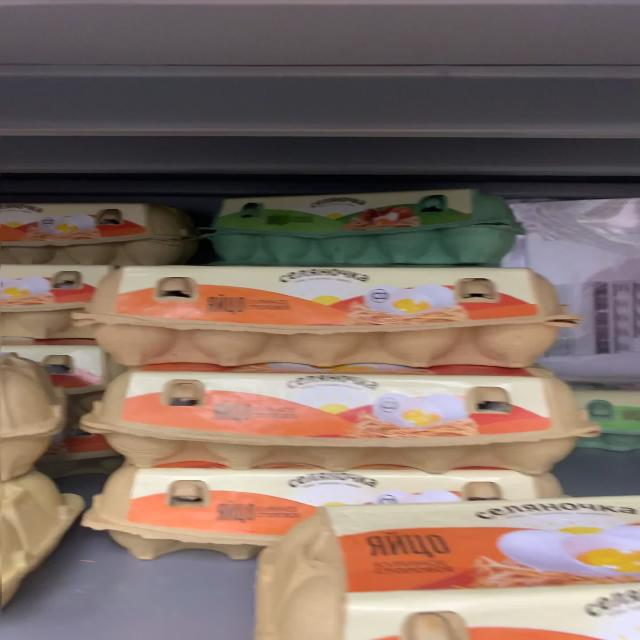egg box: (68, 356, 588, 476), (51, 247, 578, 365), (68, 453, 600, 565), (208, 168, 535, 280)
